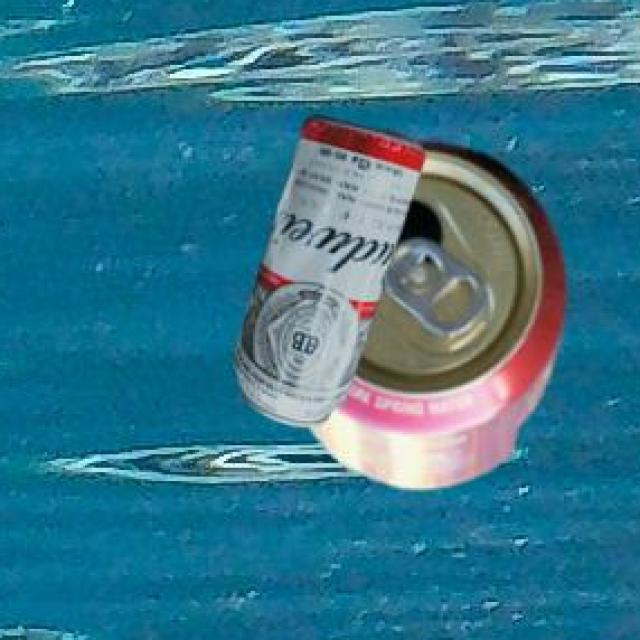logam: (308, 138, 563, 484), (232, 113, 422, 424)
